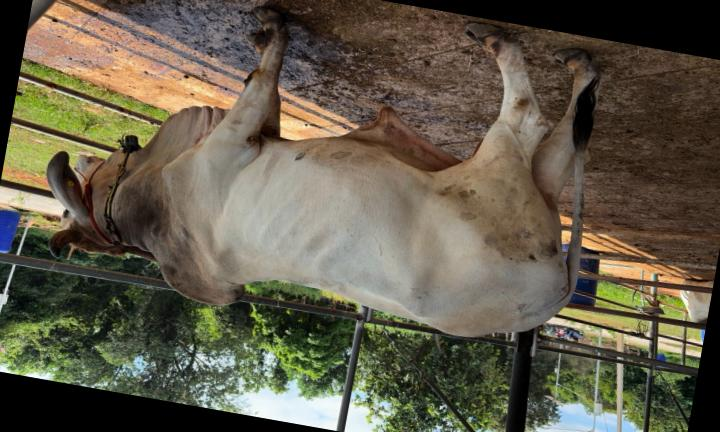Brahman: (47, 8, 603, 336)
